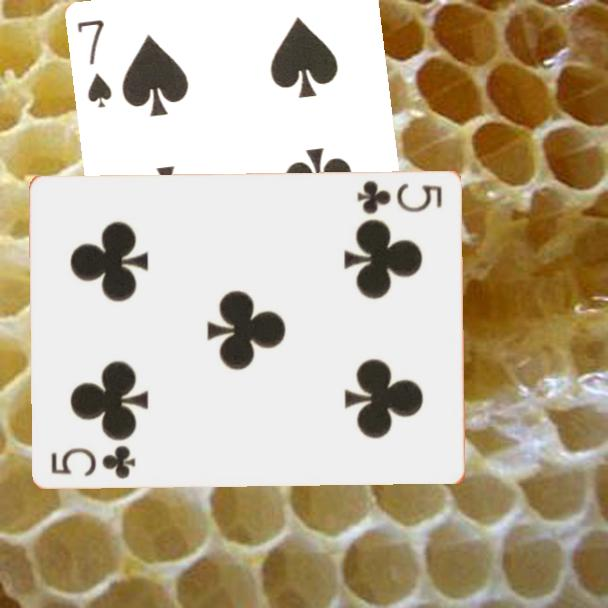c05: (354, 176, 445, 216), (48, 442, 139, 482)
s07: (74, 16, 116, 111)
